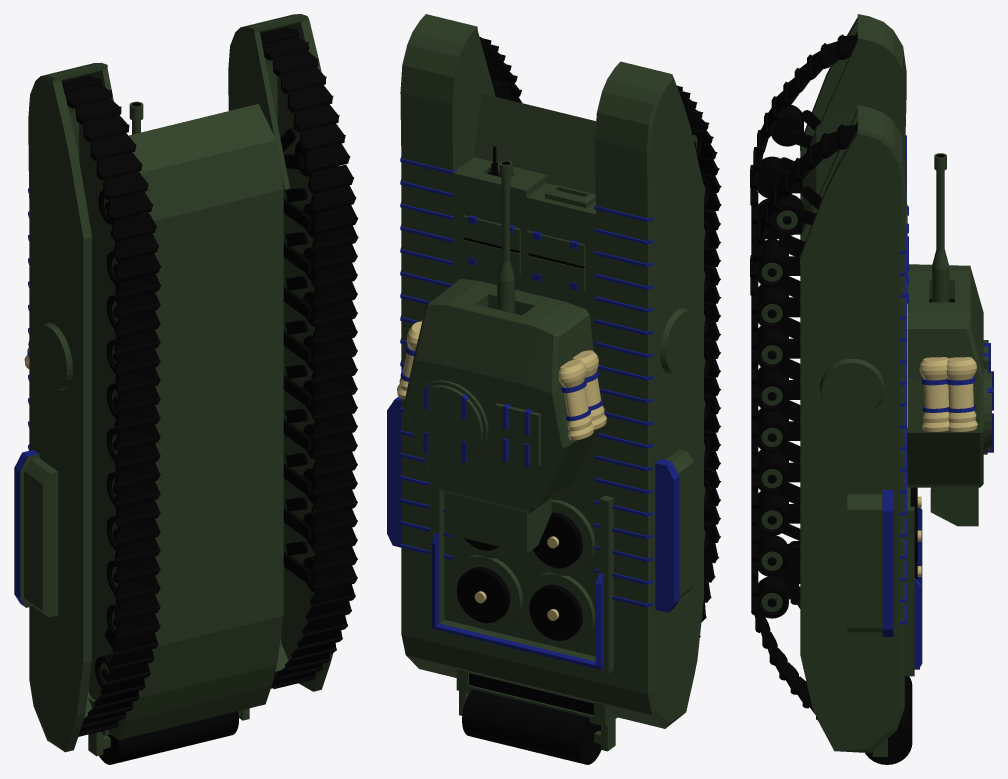
Rendered from Churchill.fbx.
The picture shows the model from 3 angles, left to right: view 1: azimuth 30°, elevation 25°; view 2: azimuth 150°, elevation 25°; view 3: azimuth 270°, elevation 25°; orthographic projection. The views are drawn at different scales.
Visible parts, largest first — view 1: TankBase, Wheel, Box, Oil Tank, Cover wheel; view 2: TankBase, Turret, Oil Tank, Wheel, Box, Mine Cover, Cover, Gunner Cover, Mine 2, Mine 3, Ammo Box, Bag (+5 smaller); view 3: TankBase, Wheel, Turret, Box, Bag, Cover wheel, Mine Cover, QF75, Ammo Box, Oil Tank, Gunner Cover.
Boxes of the visible parts, x1=… form: TankBase: x1=28, y1=14, x2=333, y2=752; Wheel: x1=62, y1=27, x2=358, y2=736; Box: x1=14, y1=449, x2=58, y2=617; Oil Tank: x1=88, y1=697, x2=249, y2=764; Cover wheel: x1=34, y1=322, x2=72, y2=390; TankBase: x1=400, y1=14, x2=703, y2=728; Turret: x1=403, y1=278, x2=601, y2=512; Oil Tank: x1=456, y1=669, x2=617, y2=764; Wheel: x1=479, y1=37, x2=721, y2=636; Box: x1=387, y1=396, x2=694, y2=612; Mine Cover: x1=430, y1=474, x2=613, y2=673; Cover: x1=462, y1=215, x2=585, y2=290; Gunner Cover: x1=409, y1=380, x2=488, y2=464; Mine 2: x1=523, y1=572, x2=595, y2=648; Mine 3: x1=450, y1=554, x2=522, y2=630; Ammo Box: x1=445, y1=492, x2=551, y2=553; Bag: x1=397, y1=319, x2=606, y2=440; TankBase: x1=800, y1=14, x2=906, y2=753; Wheel: x1=750, y1=32, x2=857, y2=719; Turret: x1=907, y1=264, x2=983, y2=487; Box: x1=847, y1=490, x2=893, y2=636; Bag: x1=919, y1=357, x2=977, y2=431; Cover wheel: x1=819, y1=358, x2=884, y2=417; Mine Cover: x1=904, y1=427, x2=922, y2=676; QF75: x1=932, y1=153, x2=949, y2=302; Ammo Box: x1=930, y1=487, x2=978, y2=526; Oil Tank: x1=865, y1=676, x2=912, y2=764; Gunner Cover: x1=983, y1=369, x2=993, y2=454.
Size of the model in its own units: 2530 by 5844 by 1939.
